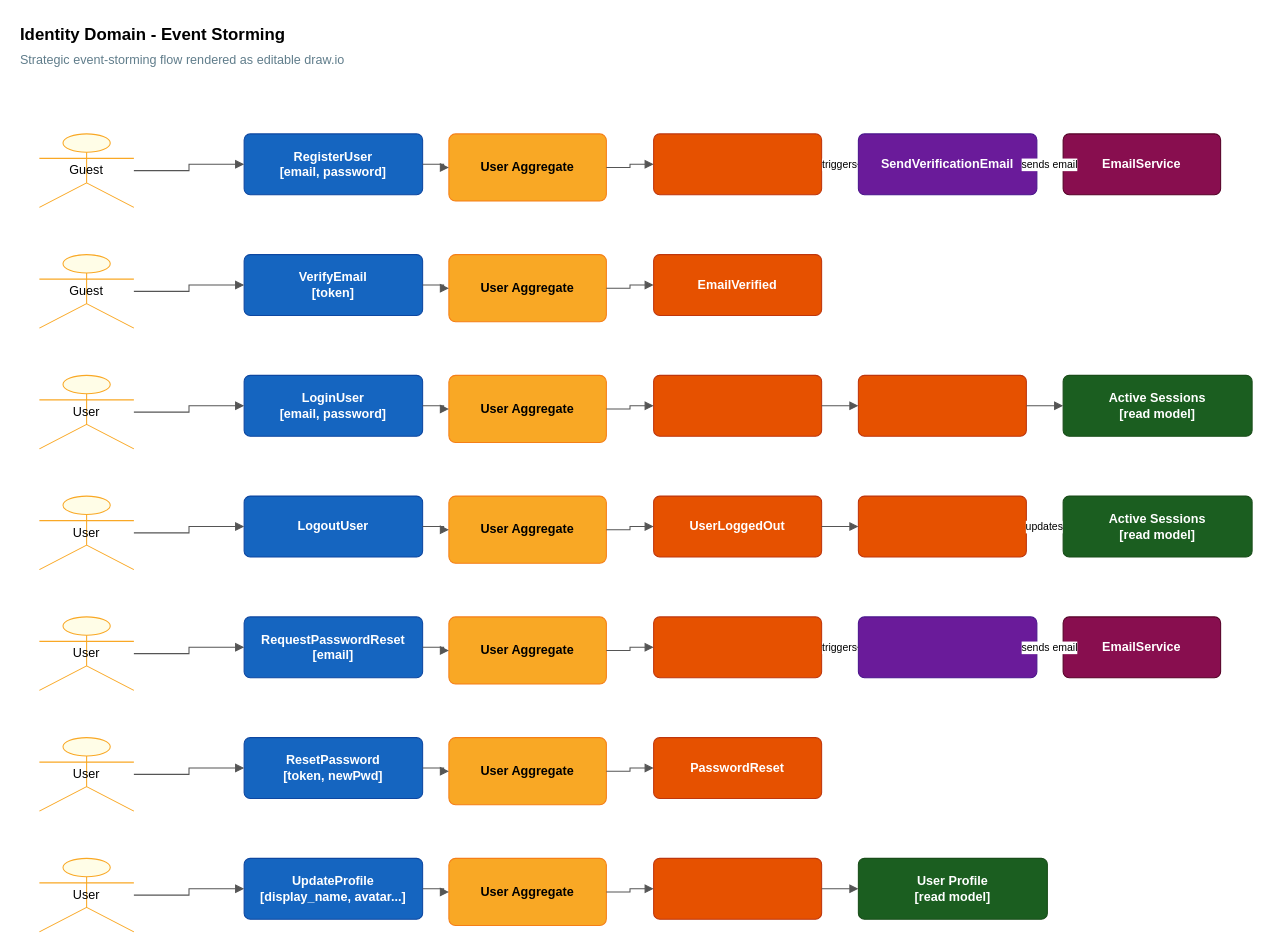
This 1271x950 diagram has some shape labels left out. The centre of each missing label's shape, as x and y in pixels:
"PasswordResetRequested" belongs at [737,647].
"ProfileUpdated" belongs at [737,888].
"SendResetEmail" belongs at [947,647].
"SessionRevoked" belongs at [941,526].
"UserLoggedIn" belongs at [737,405].
"UserRegistered" belongs at [737,164].
"UserSessionCreated" belongs at [941,405].
